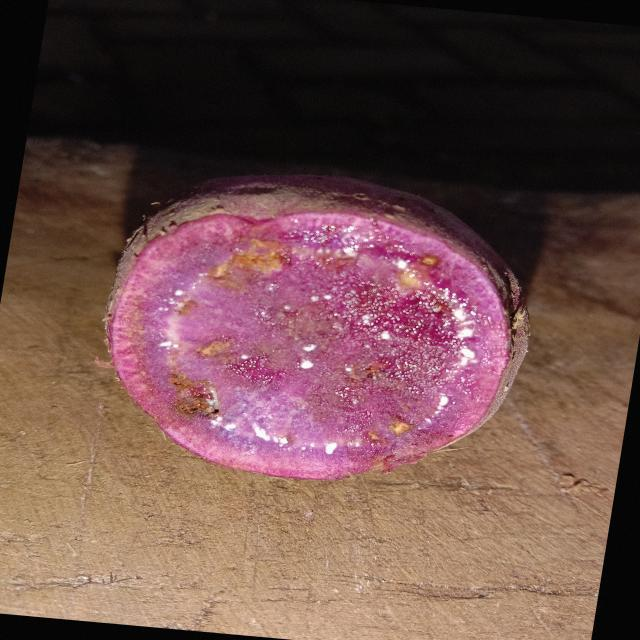Sick Sweet Potato_Tuber Rot: (107, 211, 527, 479)
